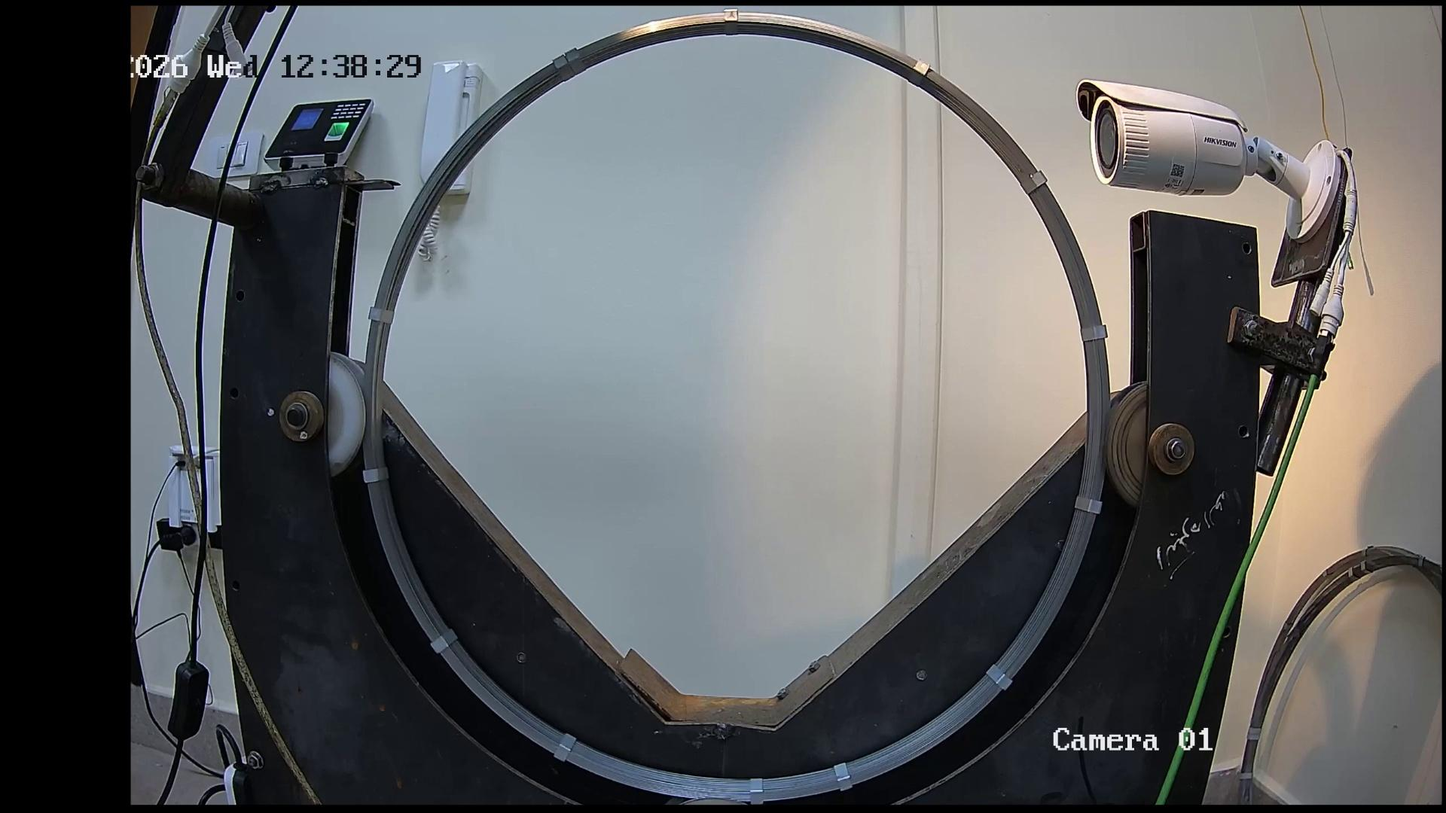clamp: (977, 653, 1022, 700), (420, 629, 471, 662), (734, 772, 779, 809), (1066, 320, 1109, 358), (827, 747, 860, 796), (555, 717, 578, 777), (1071, 493, 1107, 523), (555, 51, 574, 105), (1019, 167, 1045, 205), (714, 4, 742, 38), (365, 459, 394, 491), (367, 309, 403, 331), (565, 34, 580, 81), (913, 60, 934, 92)
